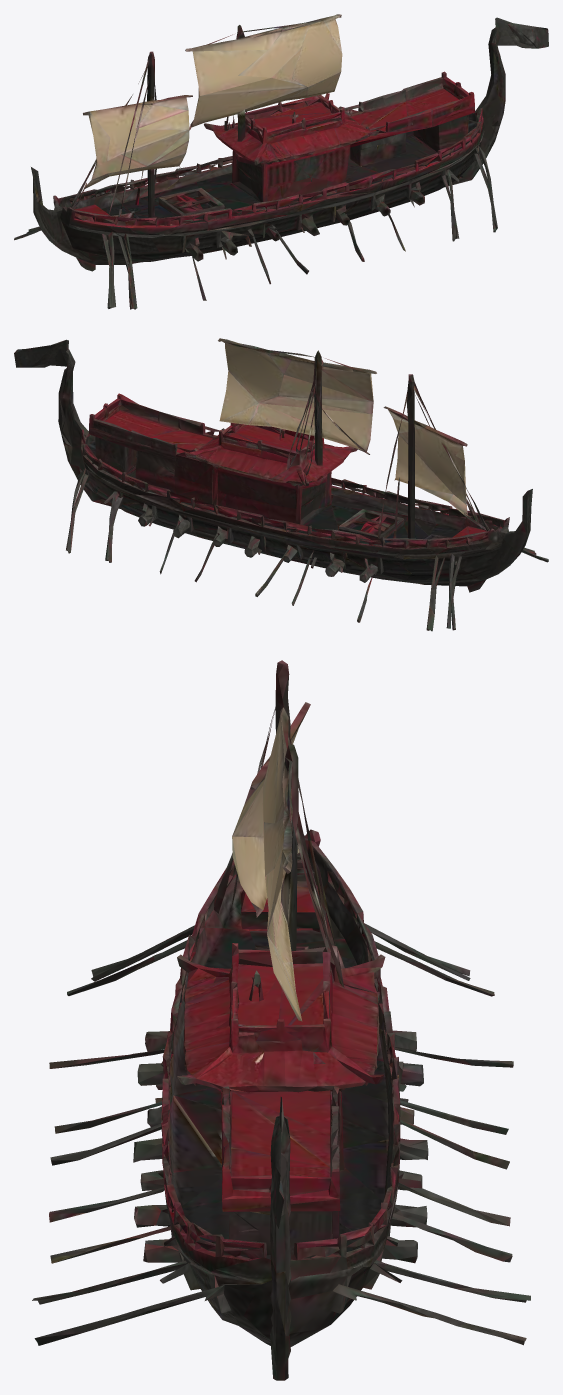
Rendered from ship_panok.glb.
3 views of the same model, one above another, from view 1: azimuth 30°, elevation 25°; view 2: azimuth 150°, elevation 25°; view 3: azimuth 270°, elevation 25° (orthographic). The views are drawn at different scales.
Bounding box in the file's own units: 1.9 × 0.7382 × 0.7941.
Materials: 1 (1 with a texture image).
